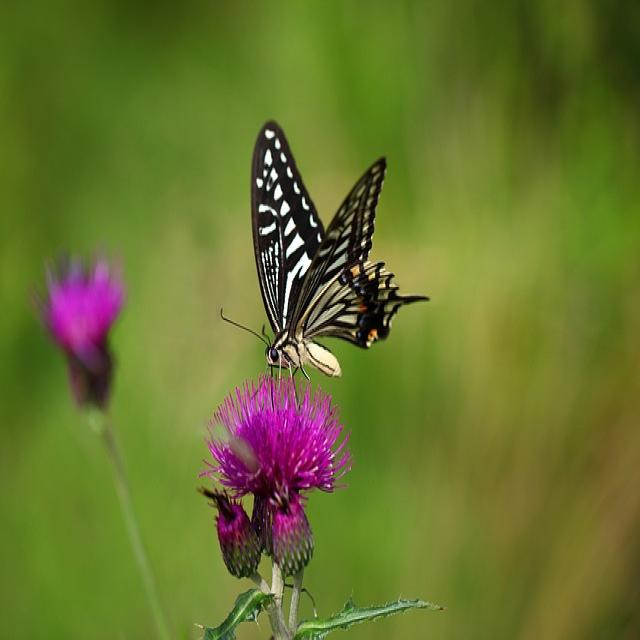butterfly: (251, 122, 425, 376)
